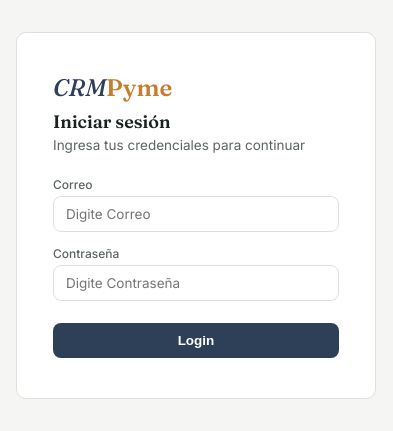
Test: LoginPage — campos vacíos › CP-10: enviar sin datos muestra el mensaje de campos obligatorios
Click the button "Login". click: (196,340)
box: [53,322,339,358]
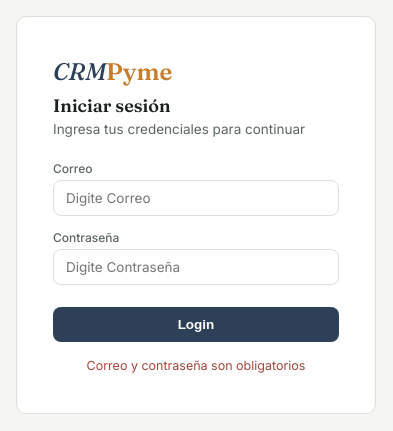
Result: the text "Correo y contraseña son obligatorios" is shown at [87,358,305,373]
